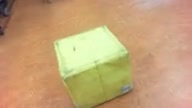cube: (53, 25, 134, 108)
